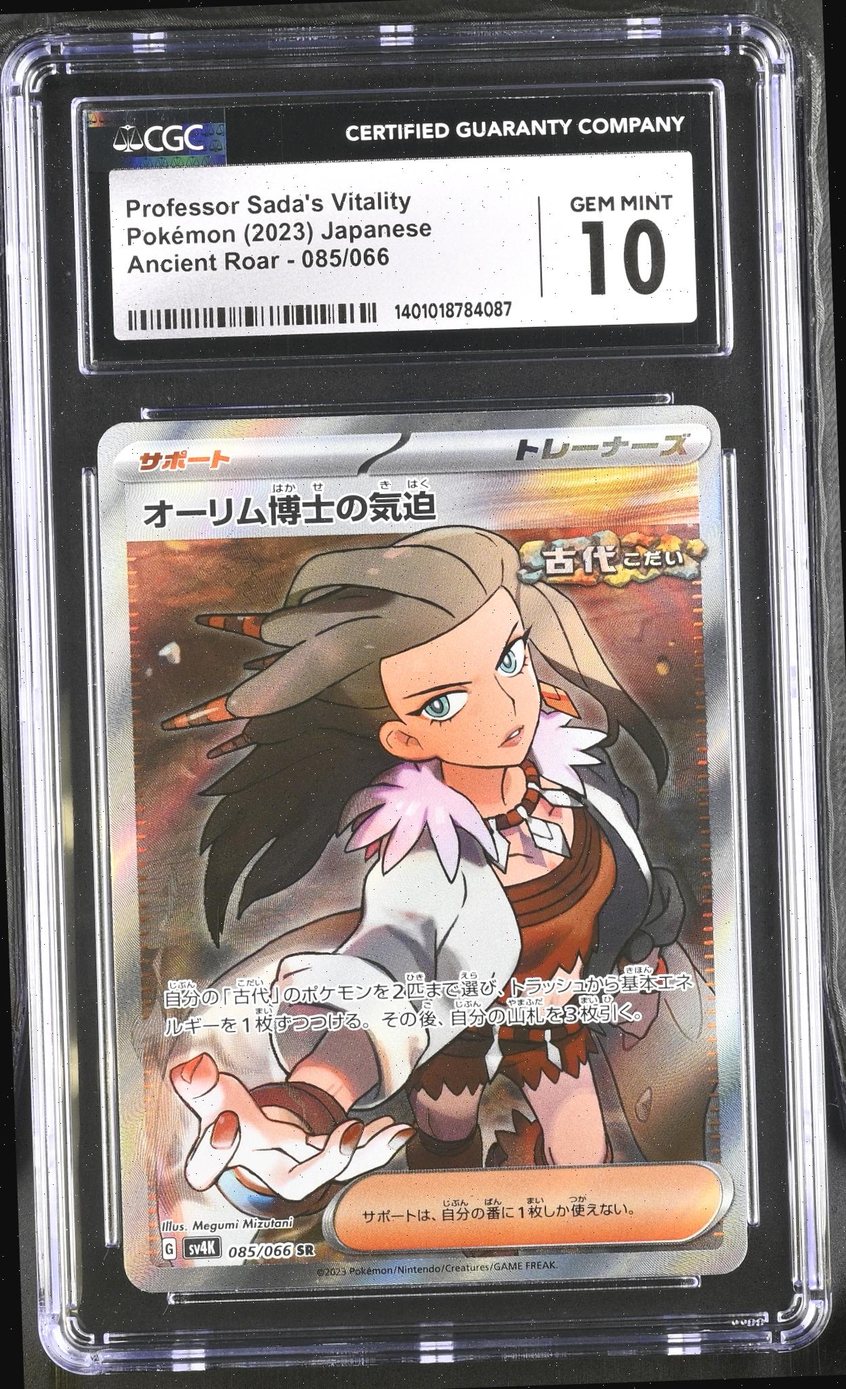card-2UtV: (97, 405, 748, 1293)
